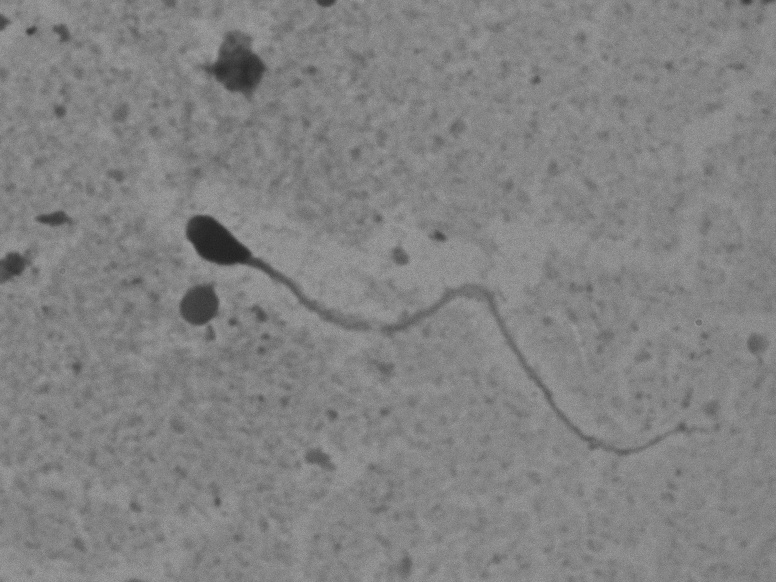Abnormal: (177, 181, 717, 500)
